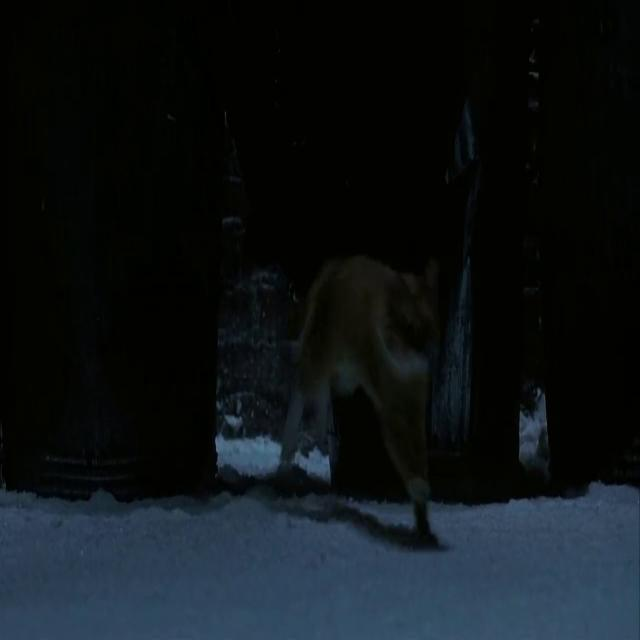Cat: (278, 236, 442, 551)
